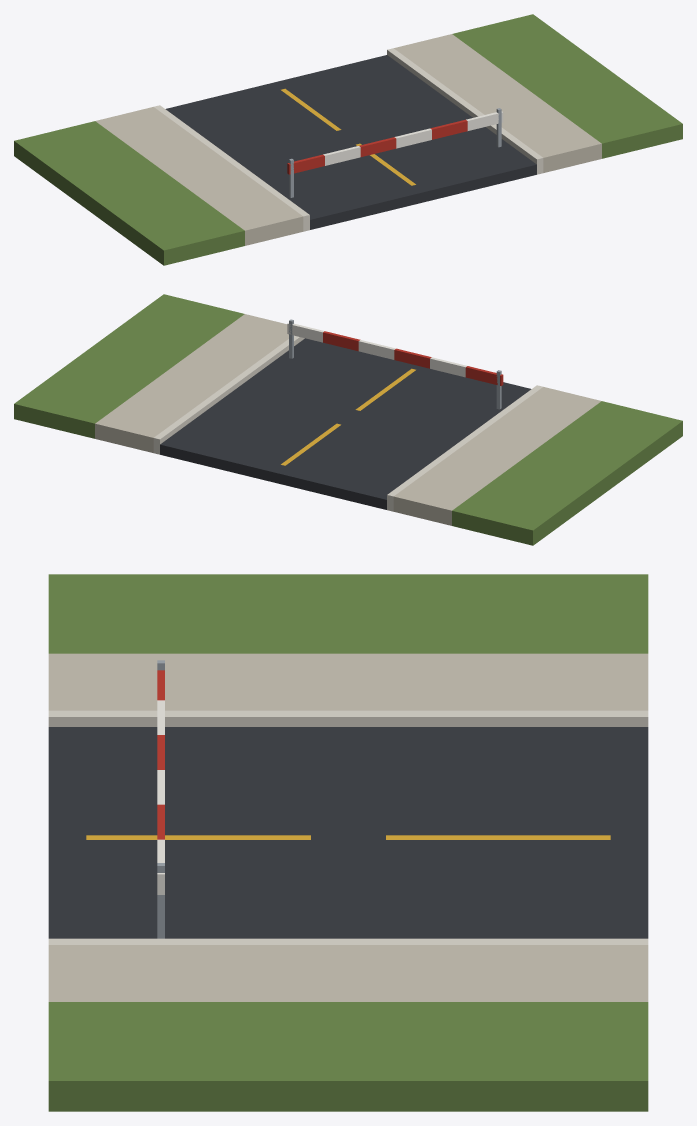
The model's file is Road_2Lane_Sidewalk_EndCap_Barrier.glb.
The picture shows the model from 3 angles, top to bottom: view 1: azimuth 30°, elevation 25°; view 2: azimuth 150°, elevation 25°; view 3: azimuth 270°, elevation 25°; orthographic projection. The views are drawn at different scales.
Parts seen in each view (by area): view 1: Road_2Lane_Sidewalk_EndCap_Barrier_Asphalt, Road_2Lane_Sidewalk_EndCap_Barrier_Grass-edge, Road_2Lane_Sidewalk_EndCap_Barrier_Sidewalk, Road_2Lane_Sidewalk_EndCap_Barrier_Curb, Road_2Lane_Sidewalk_EndCap_Barrier_SignRed, Road_2Lane_Sidewalk_EndCap_Barrier_PaintWhite, Road_2Lane_Sidewalk_EndCap_Barrier_PaintYellow, Road_2Lane_Sidewalk_EndCap_Barrier_Metal; view 2: Road_2Lane_Sidewalk_EndCap_Barrier_Asphalt, Road_2Lane_Sidewalk_EndCap_Barrier_Grass-edge, Road_2Lane_Sidewalk_EndCap_Barrier_Sidewalk, Road_2Lane_Sidewalk_EndCap_Barrier_Curb, Road_2Lane_Sidewalk_EndCap_Barrier_SignRed, Road_2Lane_Sidewalk_EndCap_Barrier_PaintWhite, Road_2Lane_Sidewalk_EndCap_Barrier_PaintYellow; view 3: Road_2Lane_Sidewalk_EndCap_Barrier_Asphalt, Road_2Lane_Sidewalk_EndCap_Barrier_Grass-edge, Road_2Lane_Sidewalk_EndCap_Barrier_Sidewalk, Road_2Lane_Sidewalk_EndCap_Barrier_Curb, Road_2Lane_Sidewalk_EndCap_Barrier_PaintYellow, Road_2Lane_Sidewalk_EndCap_Barrier_PaintWhite, Road_2Lane_Sidewalk_EndCap_Barrier_SignRed.
Boxes of the visible parts, x1=… form: Road_2Lane_Sidewalk_EndCap_Barrier_Asphalt: x1=165, y1=55, x2=536, y2=229; Road_2Lane_Sidewalk_EndCap_Barrier_Grass-edge: x1=14, y1=14, x2=682, y2=265; Road_2Lane_Sidewalk_EndCap_Barrier_Sidewalk: x1=95, y1=34, x2=601, y2=245; Road_2Lane_Sidewalk_EndCap_Barrier_Curb: x1=154, y1=48, x2=543, y2=231; Road_2Lane_Sidewalk_EndCap_Barrier_SignRed: x1=287, y1=119, x2=467, y2=174; Road_2Lane_Sidewalk_EndCap_Barrier_PaintWhite: x1=323, y1=111, x2=503, y2=165; Road_2Lane_Sidewalk_EndCap_Barrier_PaintYellow: x1=281, y1=88, x2=415, y2=185; Road_2Lane_Sidewalk_EndCap_Barrier_Metal: x1=289, y1=108, x2=501, y2=197; Road_2Lane_Sidewalk_EndCap_Barrier_Asphalt: x1=160, y1=338, x2=531, y2=509; Road_2Lane_Sidewalk_EndCap_Barrier_Grass-edge: x1=14, y1=294, x2=682, y2=545; Road_2Lane_Sidewalk_EndCap_Barrier_Sidewalk: x1=95, y1=314, x2=601, y2=525; Road_2Lane_Sidewalk_EndCap_Barrier_Curb: x1=153, y1=335, x2=542, y2=511; Road_2Lane_Sidewalk_EndCap_Barrier_SignRed: x1=323, y1=331, x2=503, y2=385; Road_2Lane_Sidewalk_EndCap_Barrier_PaintWhite: x1=287, y1=323, x2=466, y2=377; Road_2Lane_Sidewalk_EndCap_Barrier_PaintYellow: x1=281, y1=368, x2=415, y2=465; Road_2Lane_Sidewalk_EndCap_Barrier_Asphalt: x1=48, y1=727, x2=648, y2=938; Road_2Lane_Sidewalk_EndCap_Barrier_Grass-edge: x1=48, y1=574, x2=648, y2=1111; Road_2Lane_Sidewalk_EndCap_Barrier_Sidewalk: x1=48, y1=653, x2=648, y2=1001; Road_2Lane_Sidewalk_EndCap_Barrier_Curb: x1=48, y1=710, x2=648, y2=944; Road_2Lane_Sidewalk_EndCap_Barrier_PaintYellow: x1=86, y1=835, x2=610, y2=839; Road_2Lane_Sidewalk_EndCap_Barrier_PaintWhite: x1=157, y1=700, x2=164, y2=894; Road_2Lane_Sidewalk_EndCap_Barrier_SignRed: x1=157, y1=670, x2=164, y2=839.
Size of the model in its own units: 16 by 1.4 by 8.
